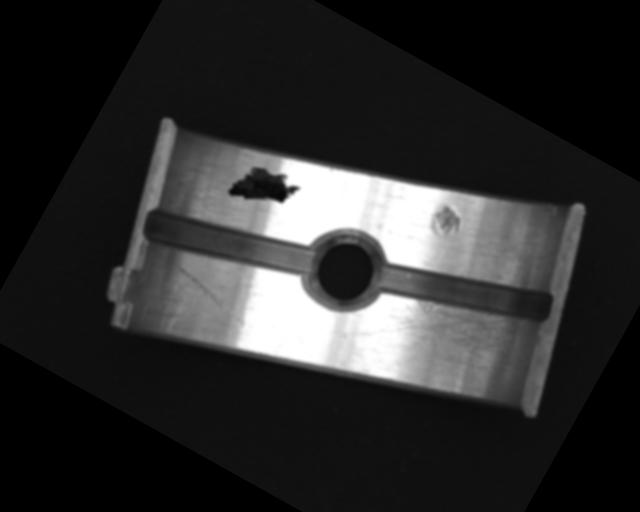blot: (225, 153, 304, 226)
bruise: (423, 201, 467, 245)
gap: (371, 217, 557, 368), (139, 172, 321, 317)
hole: (293, 220, 396, 322)
nick: (164, 261, 256, 329)
scratch: (359, 259, 542, 414)
